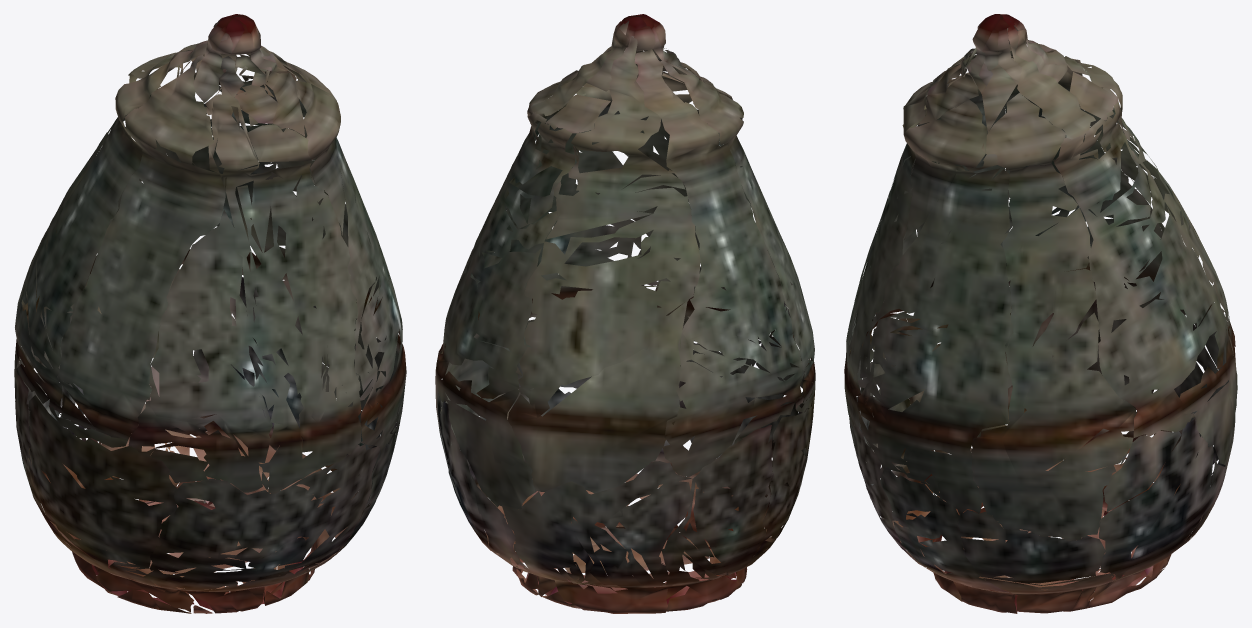
Rendered from hm-si-satchanalai-lidded-jar.lod1.glb.
3 renders of one model, left to right at view 1: azimuth 30°, elevation 25°; view 2: azimuth 150°, elevation 25°; view 3: azimuth 270°, elevation 25°, orthographic. The views are drawn at different scales.
Parts seen in each view (by area): view 1: Object_3, Object_4, Object_2, Object_6, Object_8, Object_7, Object_9, Object_5, Object_11, Object_10; view 2: Object_9, Object_6, Object_10, Object_8, Object_7, Object_4, Object_5, Object_2, Object_3, Object_11; view 3: Object_2, Object_9, Object_3, Object_5, Object_8, Object_7, Object_6, Object_4, Object_10, Object_11.
Part boxes in pixels (bbox=[...]): Object_3: bbox=[74, 137, 402, 613]; Object_4: bbox=[14, 55, 403, 610]; Object_2: bbox=[28, 56, 406, 612]; Object_6: bbox=[14, 39, 379, 591]; Object_8: bbox=[23, 52, 389, 613]; Object_7: bbox=[15, 71, 386, 601]; Object_9: bbox=[21, 22, 380, 605]; Object_5: bbox=[15, 127, 400, 594]; Object_11: bbox=[164, 14, 373, 613]; Object_10: bbox=[23, 50, 351, 477]; Object_9: bbox=[435, 20, 772, 564]; Object_6: bbox=[448, 48, 804, 587]; Object_10: bbox=[445, 95, 688, 510]; Object_8: bbox=[435, 49, 800, 608]; Object_7: bbox=[435, 50, 800, 613]; Object_4: bbox=[479, 60, 815, 599]; Object_5: bbox=[436, 86, 814, 611]; Object_2: bbox=[487, 50, 814, 583]; Object_3: bbox=[459, 93, 792, 581]; Object_11: bbox=[478, 14, 698, 574]; Object_2: bbox=[844, 48, 1067, 592]; Object_9: bbox=[849, 22, 1235, 576]; Object_3: bbox=[844, 143, 1114, 613]; Object_5: bbox=[849, 151, 1225, 608]; Object_8: bbox=[849, 47, 1237, 567]; Object_7: bbox=[859, 64, 1231, 601]; Object_6: bbox=[848, 40, 1213, 601]; Object_4: bbox=[866, 40, 1171, 613]; Object_10: bbox=[848, 72, 1237, 464]; Object_11: bbox=[860, 14, 1193, 536].
Size of the model in its own units: 0.11 by 0.175 by 0.1107.
1 material, 1 textured.
